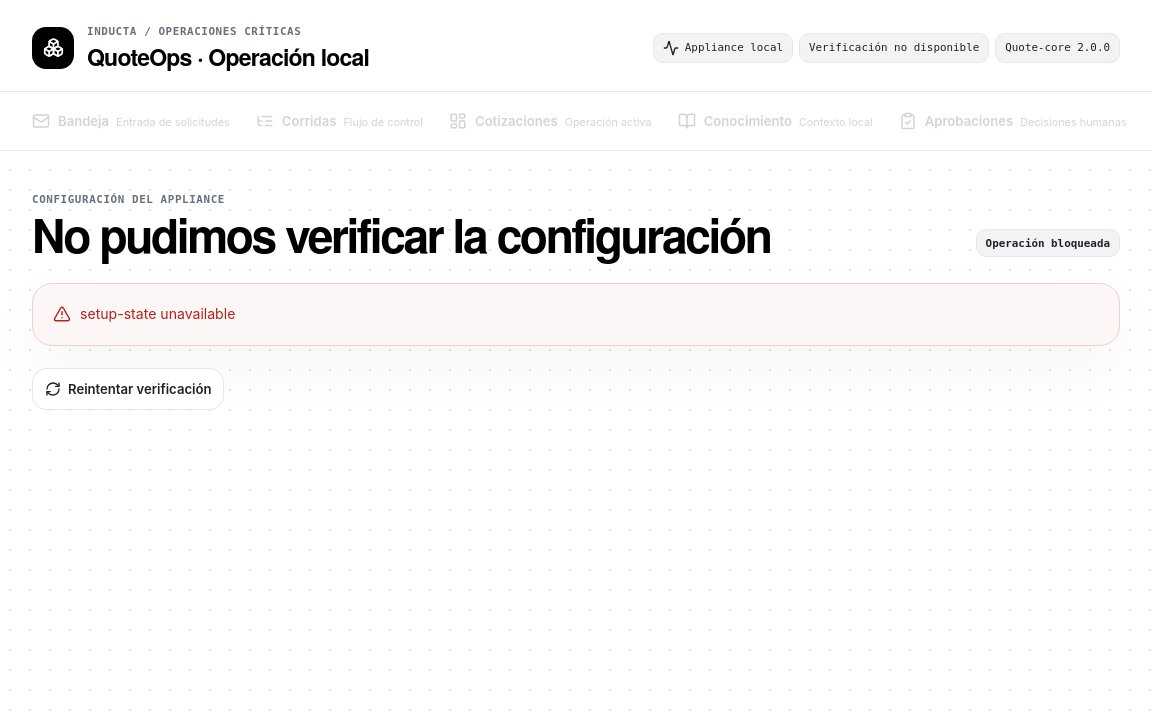
it: Separated product shells › fails closed and retries when setup state cannot be fetched
Check: the heading "No pudimos verificar la configuración" is shown, box [32, 212, 770, 257]
Check: the heading "Bandeja operativa" is not shown
Click the button "Reintentar verificación" at (128, 389), box [32, 368, 224, 410]
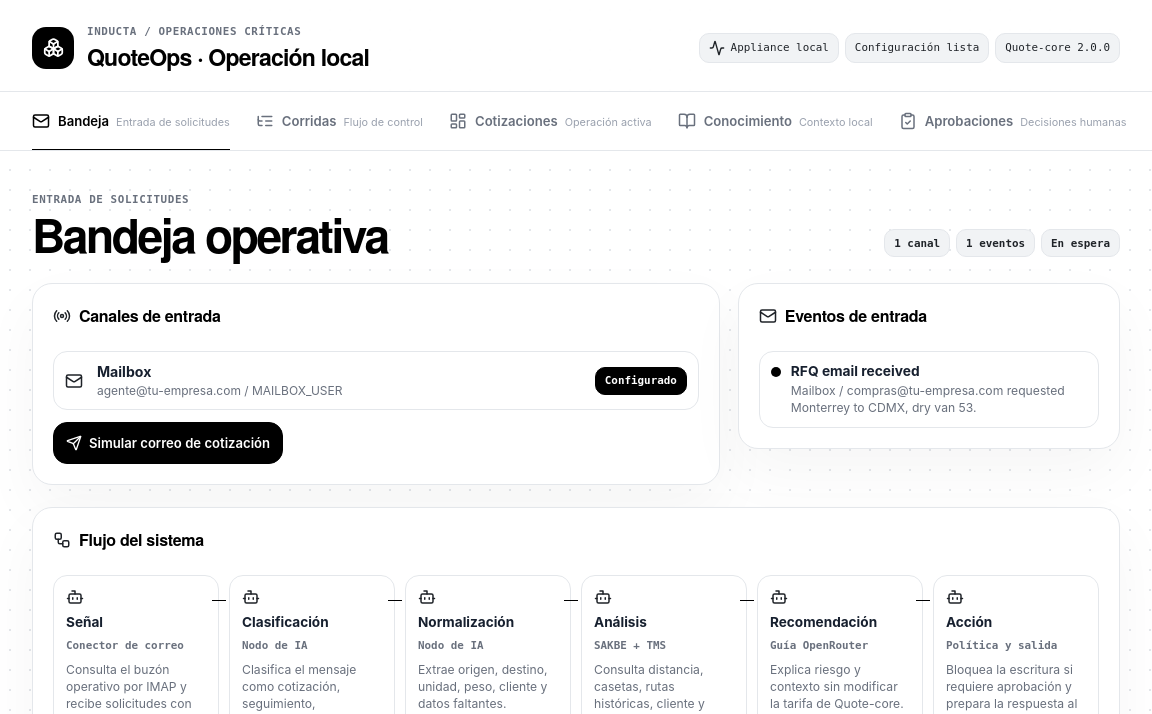
Check: the heading "Bandeja operativa" is shown, box [32, 212, 388, 257]
Check: the button "Bandeja Entrada de solicitudes" is enabled, box [32, 92, 230, 150]
